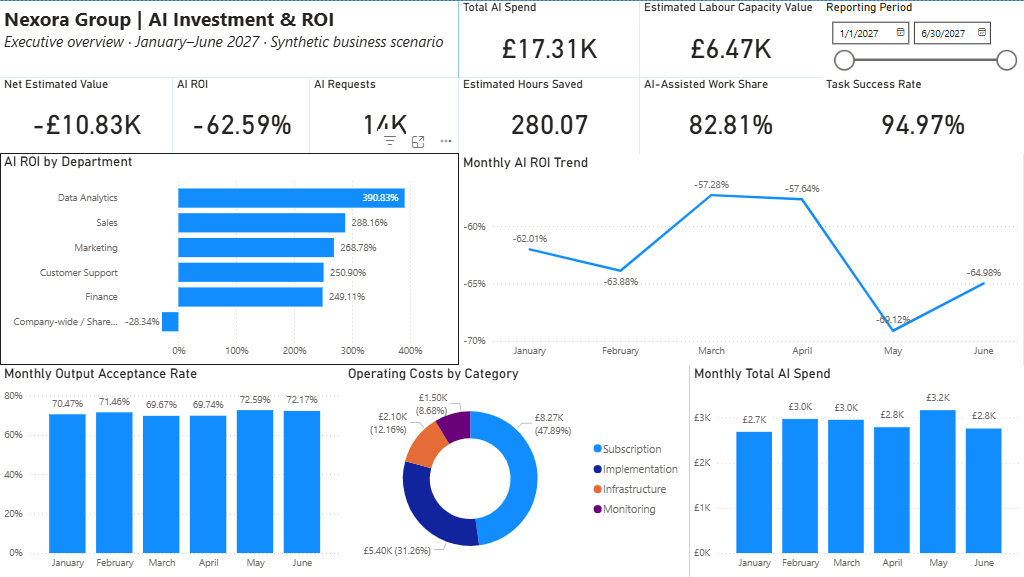

The page's visual inventory and layout, read from the dashboard file:
{"tool":"powerbi","page":{"name":"Executive Overview","canvas":[1280,720],"ordinal":0},"visuals":[{"type":"card","title":"Total AI Spend","fields":{"Values":["vw_ai_usage.Total AI Spend"]},"box":[573.8,0,226.2,96.2],"z":0},{"type":"card","title":"Estimated Labour Capacity Value","fields":{"Values":["vw_work_outcomes.Estimated Labour Capacity Value"]},"box":[800,0,227.5,96.2],"z":1000},{"type":"card","title":"Net Estimated Value","fields":{"Values":["vw_work_outcomes.Net Estimated Value"]},"box":[0,96.2,215.8,93.8],"z":2000},{"type":"card","title":"AI ROI","fields":{"Values":["vw_work_outcomes.AI ROI"]},"box":[215.8,96.2,171.2,93.8],"z":3000},{"type":"card","title":"AI Requests","fields":{"Values":["vw_ai_usage.AI Requests"]},"box":[387,96.2,186.4,93.8],"z":4000},{"type":"card","title":"Estimated Hours Saved","fields":{"Values":["vw_work_outcomes.Estimated Hours Saved"]},"box":[573.4,96.2,226.3,95],"z":5000},{"type":"card","title":"AI-Assisted Work Share","fields":{"Values":["vw_work_outcomes.AI-Assisted Work Share"]},"box":[800,96.2,227.5,95],"z":6000},{"type":"card","title":"Task Success Rate","fields":{"Values":["vw_work_outcomes.Task Success Rate"]},"box":[1027.5,96.2,252.5,95],"z":7000},{"type":"lineChart","title":"Monthly AI ROI Trend","fields":{"Category":["dim_date.CalendarDate.Variation.Date Hierarchy.Month"],"Y":["vw_work_outcomes.AI ROI"]},"box":[573.8,191.2,706.2,263.8],"z":8000},{"type":"clusteredBarChart","title":"AI ROI by Department","fields":{"Category":["departments_costs.DepartmentName"],"Y":["vw_work_outcomes.AI ROI"]},"box":[0,190,573.8,265],"z":9000},{"type":"lineClusteredColumnComboChart","title":"Monthly Total AI Spend","fields":{"Category":["dim_date.CalendarDate.Variation.Date Hierarchy.Month"],"Y":["vw_ai_usage.Total AI Spend"]},"box":[861.9,455,418.6,265],"z":10000},{"type":"clusteredColumnChart","title":"Monthly Output Acceptance Rate","fields":{"Category":["dim_date.CalendarDate.Variation.Date Hierarchy.Month"],"Y":["vw_work_outcomes.Output Acceptance Rate"]},"box":[0,455,430,265],"z":11000},{"type":"slicer","title":"Reporting Period","fields":{"Values":["dim_date.CalendarDate"]},"box":[1027.5,0,252.5,96.2],"z":12000},{"type":"donutChart","title":"Operating Costs by Category","fields":{"Category":["cost_categories.CostCategoryName"],"Y":["vw_operating_costs.Operating Costs"]},"box":[430.4,455,431.5,265],"z":13000},{"type":"textbox","box":[0,0,573.4,96.2],"z":14000}]}

Visuals, with their boxes in screenshot pixels (x1, y1, x2, y2), scaled from the page's 1280x720 canvas onto the 1024x577 screenshot:
"Total AI Spend" card: (459, 0, 640, 77)
"Estimated Labour Capacity Value" card: (640, 0, 822, 77)
"Net Estimated Value" card: (0, 77, 173, 152)
"AI ROI" card: (173, 77, 310, 152)
"AI Requests" card: (310, 77, 459, 152)
"Estimated Hours Saved" card: (459, 77, 640, 153)
"AI-Assisted Work Share" card: (640, 77, 822, 153)
"Task Success Rate" card: (822, 77, 1023, 153)
"Monthly AI ROI Trend" lineChart: (459, 153, 1023, 365)
"AI ROI by Department" clusteredBarChart: (0, 152, 459, 365)
"Monthly Total AI Spend" lineClusteredColumnComboChart: (690, 365, 1023, 576)
"Monthly Output Acceptance Rate" clusteredColumnChart: (0, 365, 344, 576)
"Reporting Period" slicer: (822, 0, 1023, 77)
"Operating Costs by Category" donutChart: (344, 365, 690, 576)
textbox: (0, 0, 459, 77)
